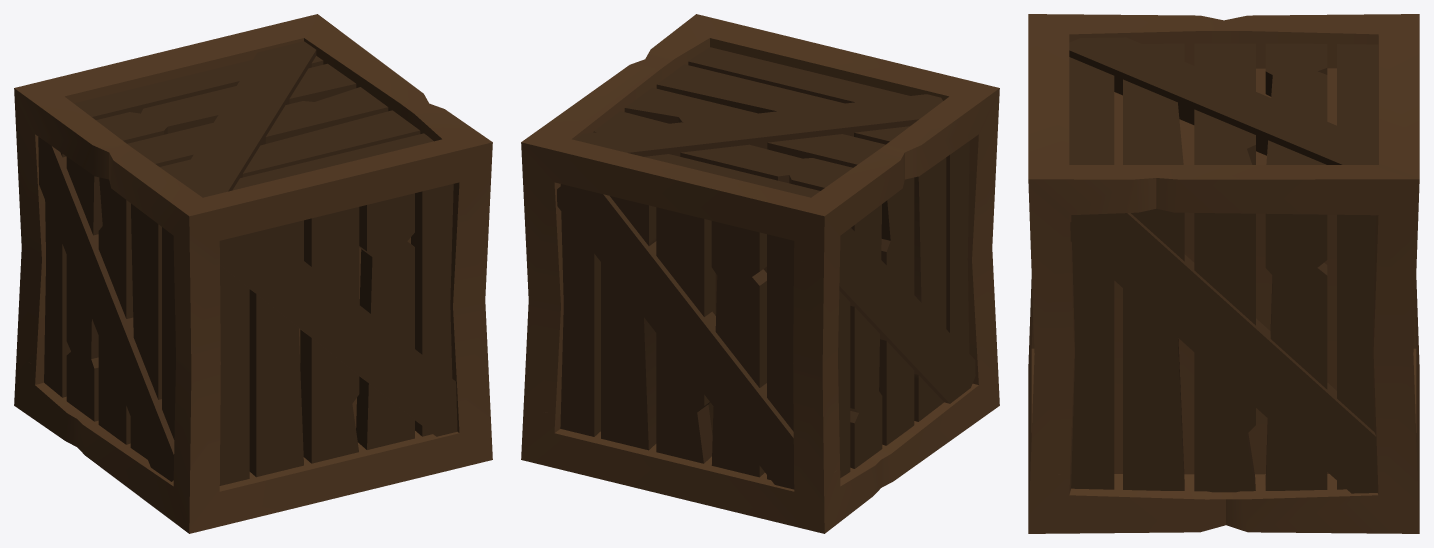
The model's file is crate.glb.
3 renders of one model, left to right at view 1: azimuth 30°, elevation 25°; view 2: azimuth 150°, elevation 25°; view 3: azimuth 270°, elevation 25°, orthographic. The views are drawn at different scales.
Visible parts, largest first — view 1: crate; view 2: crate; view 3: crate.
Part boxes in pixels (left/top/right/bottom): crate: left=14, top=14, right=492, bottom=533; crate: left=521, top=14, right=999, bottom=533; crate: left=1028, top=14, right=1419, bottom=533.
Size of the model in its own units: 0.9999 by 0.9999 by 1.
